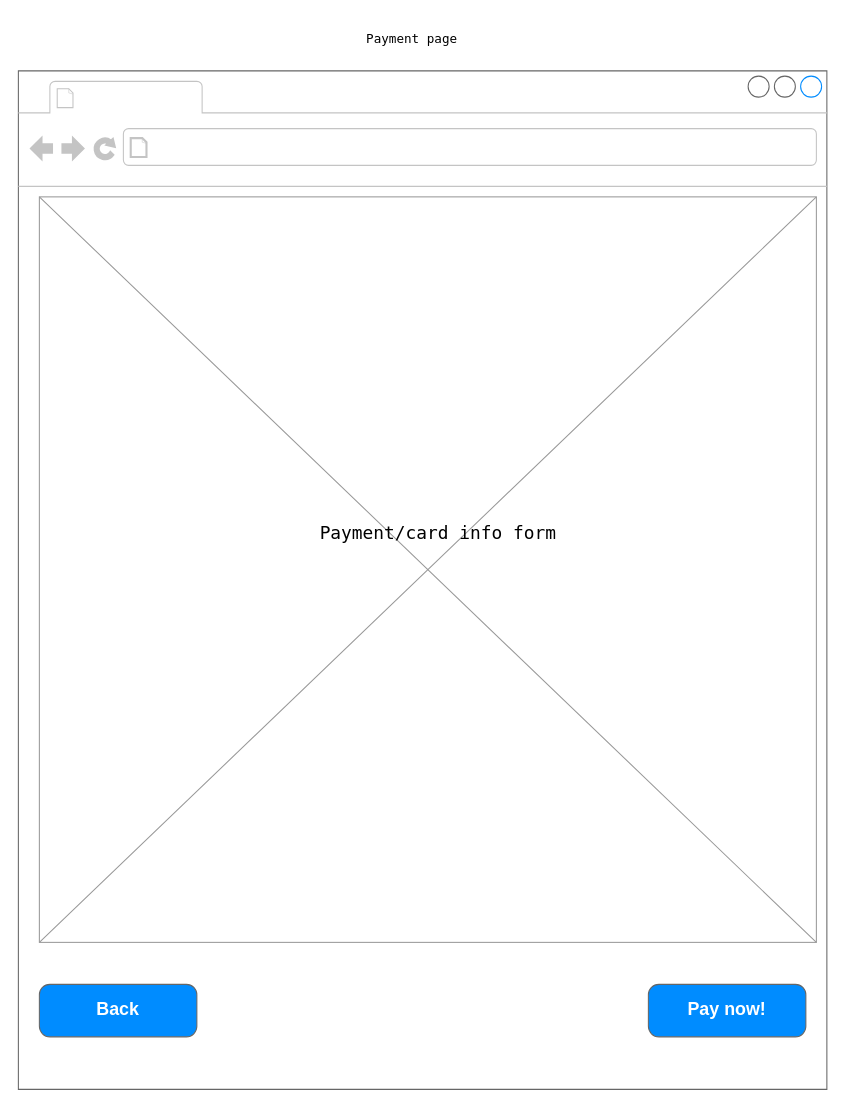
Some shapes in this 845 by 1108 pixel diagram are drawn without their labels. The centre of each missing label's shape, as x and y in pixels:
https://www.draw.io: the point at 285,147
Page 1: the point at 138,96
